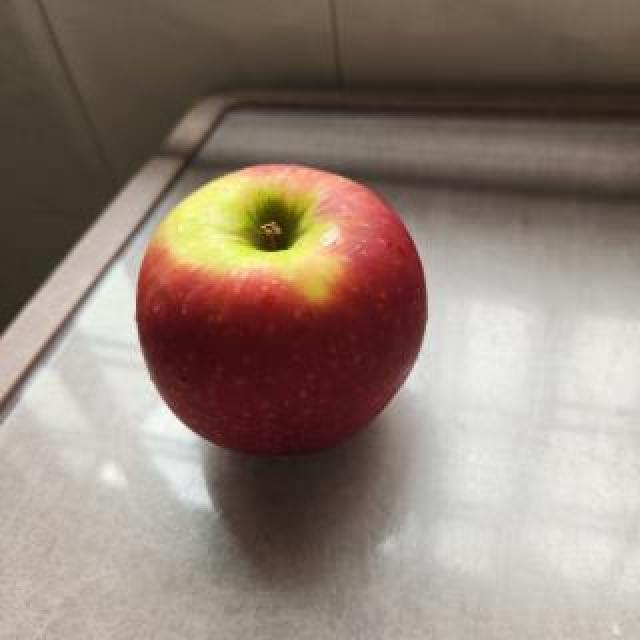Fresh Apple: (144, 162, 431, 464)
